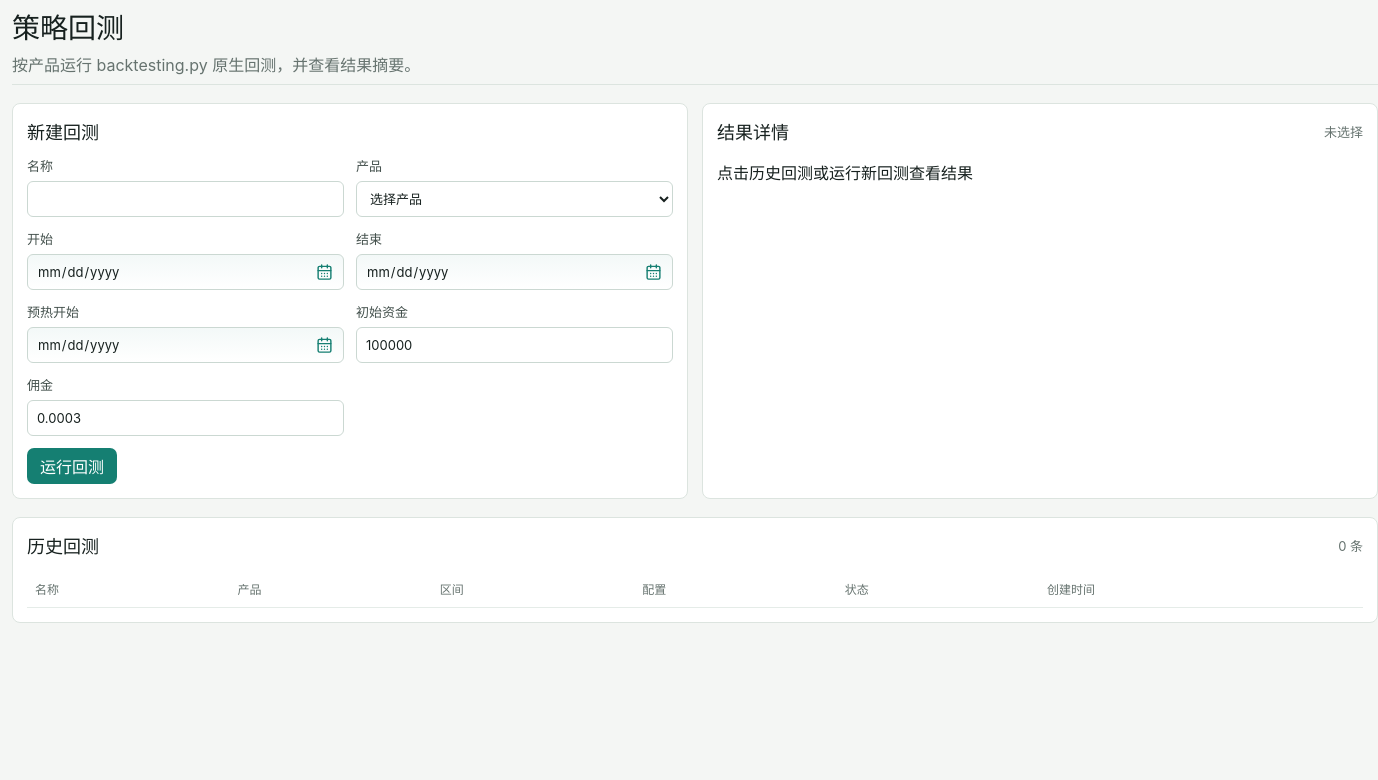
Test: create form buttons › submits a native backtest without losing the form reset target
This screenshot has width=1378, height=780.
Select "510300 沪深300ETF" in the dropdown labelled "产品": [514, 199] box [356,181,673,217]
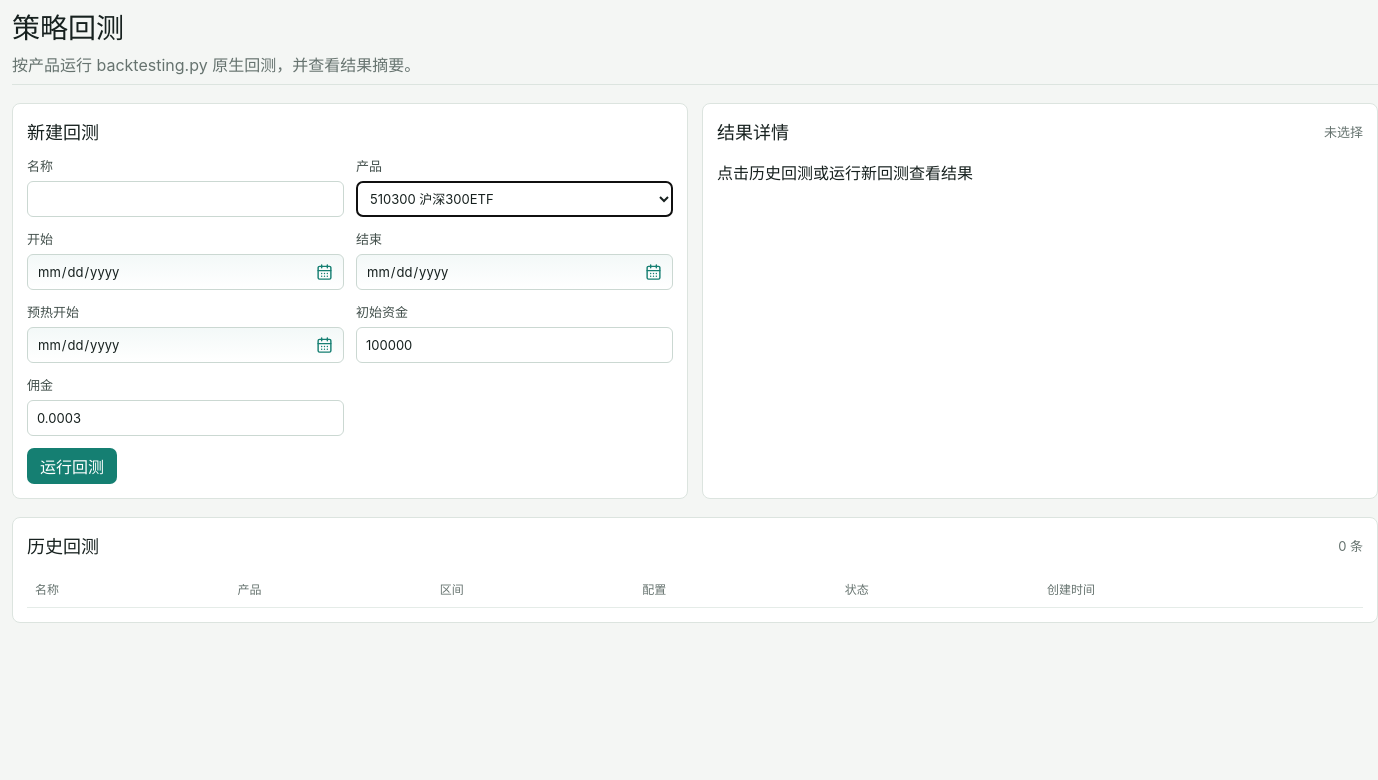
In the date field labelled "开始": [186, 272] box [27,254,344,290], type "2026-02-24"
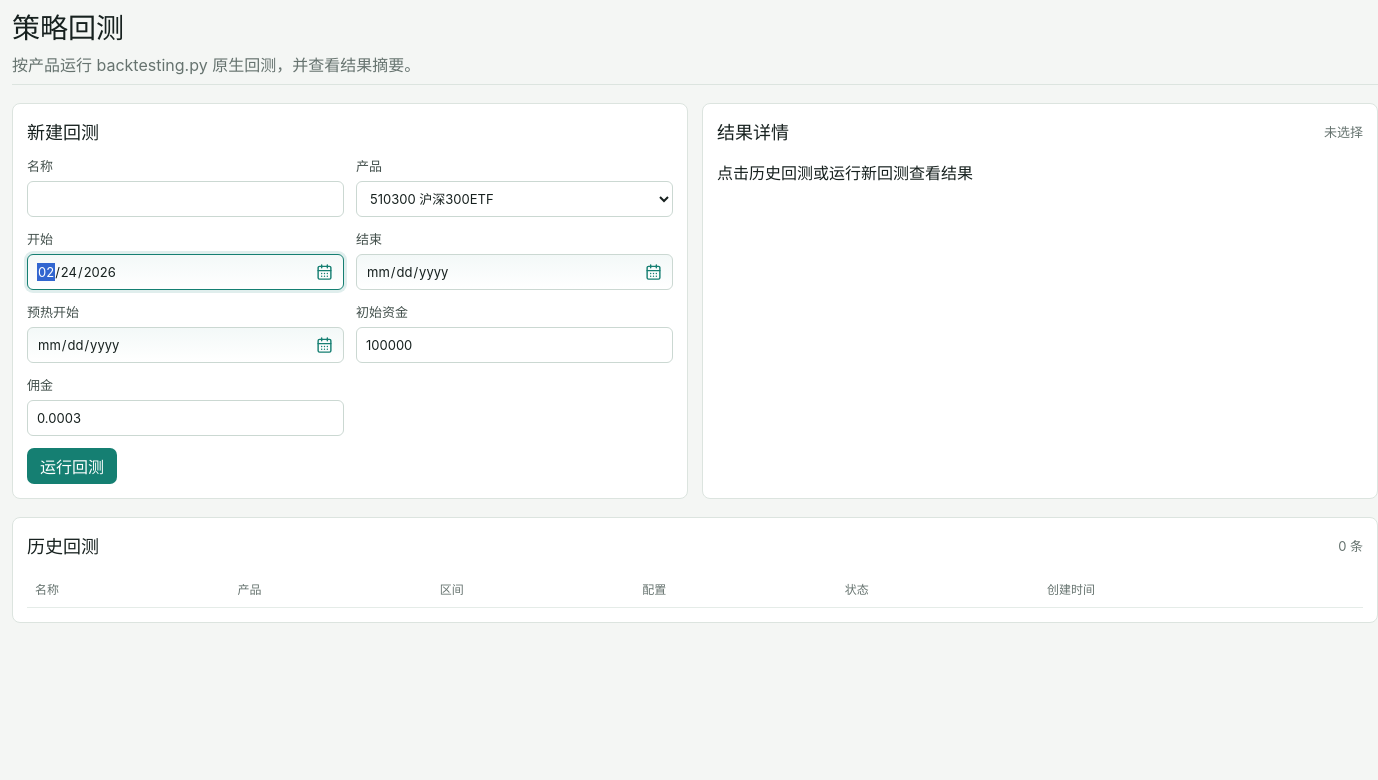
In the date field labelled "结束": [514, 272] box [356,254,673,290], type "2026-05-11"
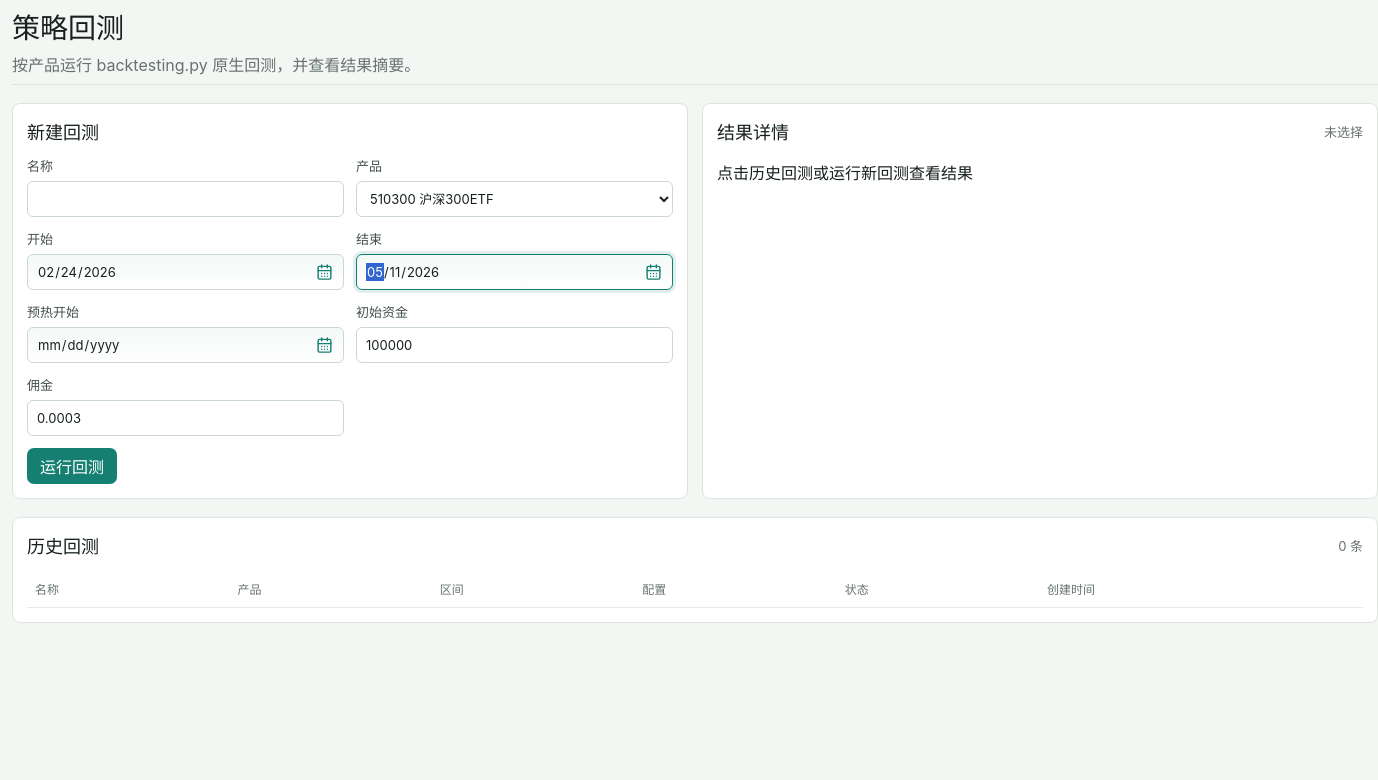
Click the button "运行回测": [72, 466] box [27,448,117,484]
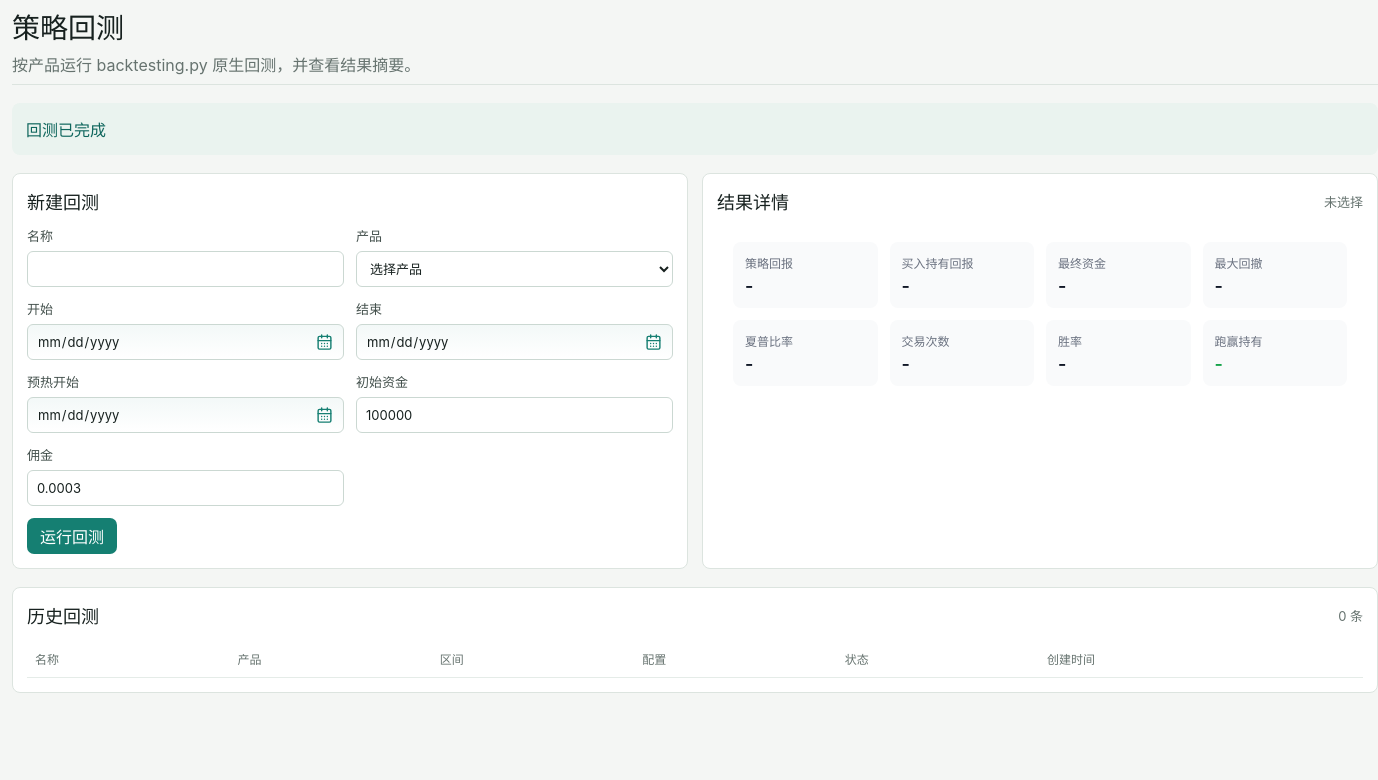
Result: the text "回测已完成" is shown at [12,103,1377,155]
